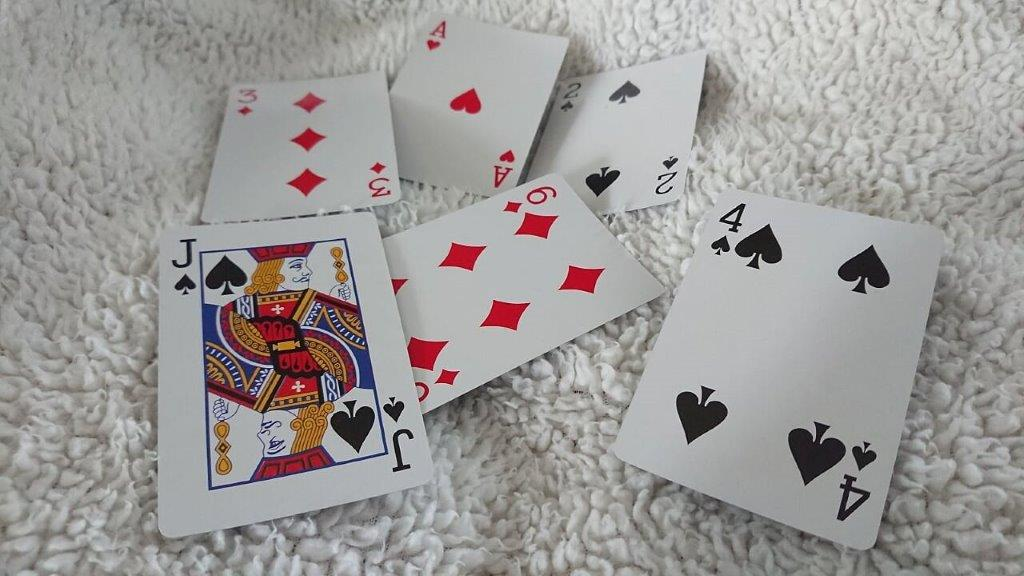2S: (557, 80, 587, 118)
3D: (234, 83, 261, 123)
4S: (703, 196, 757, 263)
AH: (421, 15, 454, 56)
JS: (164, 228, 210, 303)
